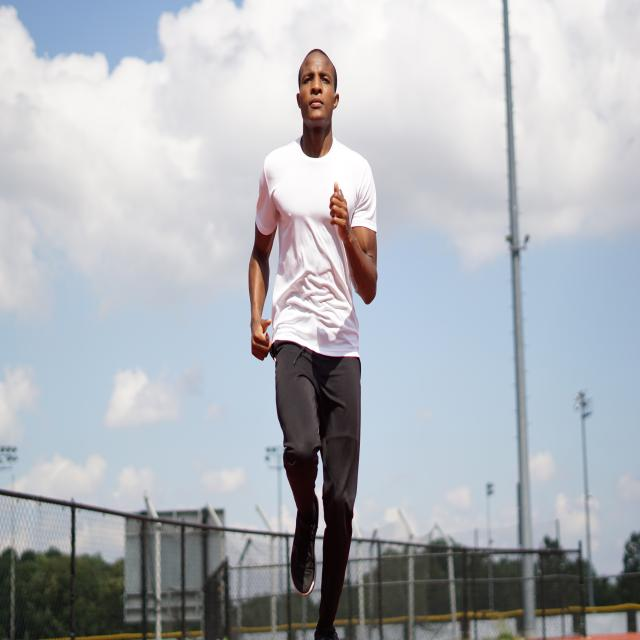running: (248, 48, 380, 640)
